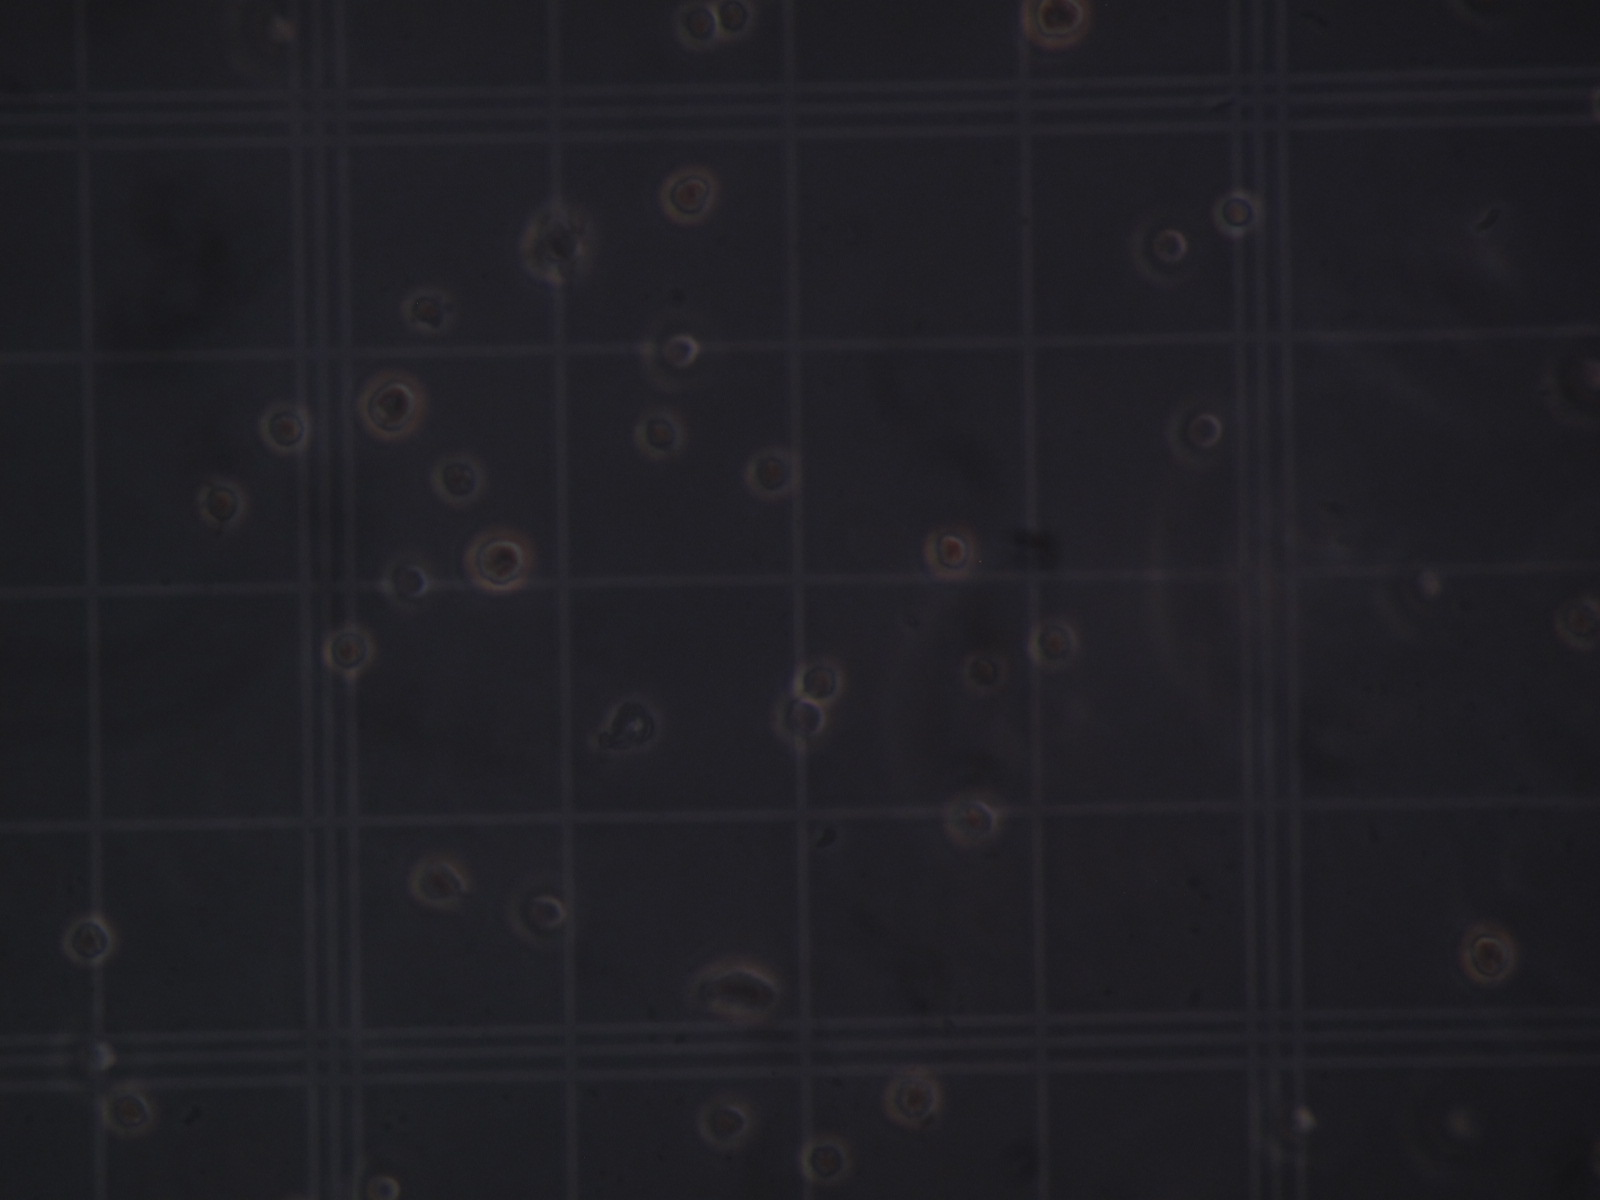hemo: (689, 961, 781, 1024), (1540, 337, 1600, 429), (52, 1027, 118, 1103), (637, 316, 700, 393), (522, 211, 587, 284), (358, 372, 425, 440), (1129, 216, 1189, 287), (1165, 400, 1225, 470), (464, 531, 530, 592), (506, 880, 566, 945), (598, 697, 661, 754), (1460, 924, 1517, 984), (659, 166, 717, 224), (1020, 1, 1090, 49), (883, 1070, 942, 1126), (408, 857, 467, 909), (923, 524, 976, 580), (380, 555, 431, 613), (774, 693, 826, 747), (745, 446, 799, 499), (944, 795, 999, 847), (100, 1087, 156, 1137), (698, 1097, 751, 1150), (431, 453, 484, 505), (258, 401, 311, 454), (62, 914, 116, 966), (323, 624, 375, 676), (634, 408, 685, 459), (1553, 595, 1600, 650), (1028, 619, 1078, 669), (197, 478, 247, 528), (800, 1136, 850, 1184), (792, 658, 844, 705), (1212, 189, 1261, 237), (350, 1158, 403, 1200), (402, 287, 450, 333), (675, 3, 721, 49), (963, 652, 1007, 693), (714, 1, 755, 40)
